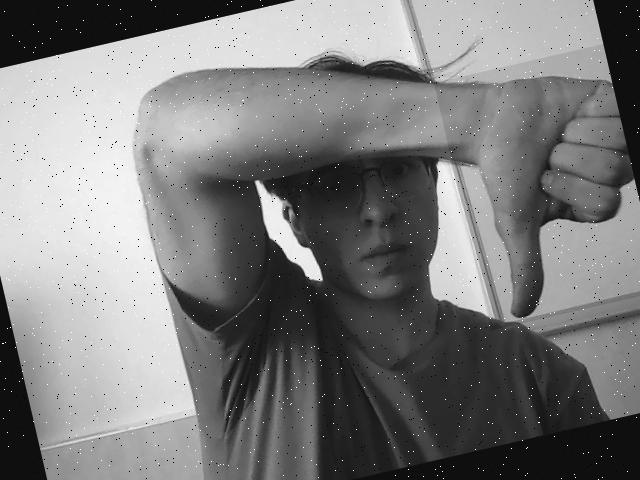bad: (434, 43, 640, 330)
